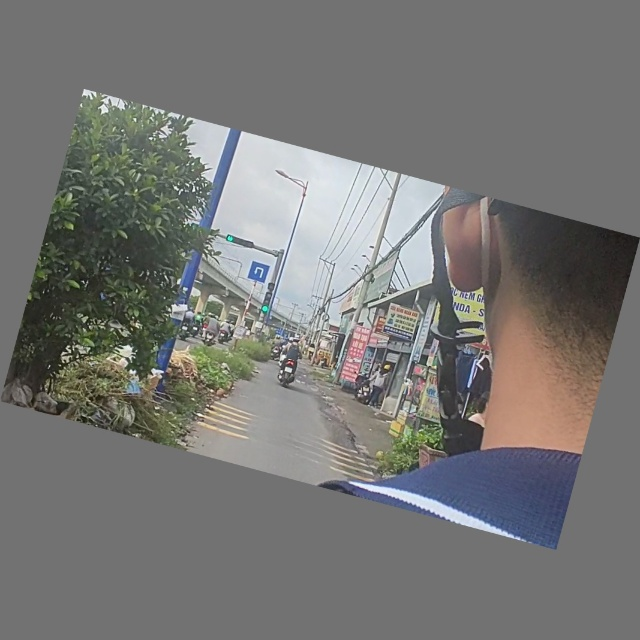I.409: (245, 260, 271, 287)
